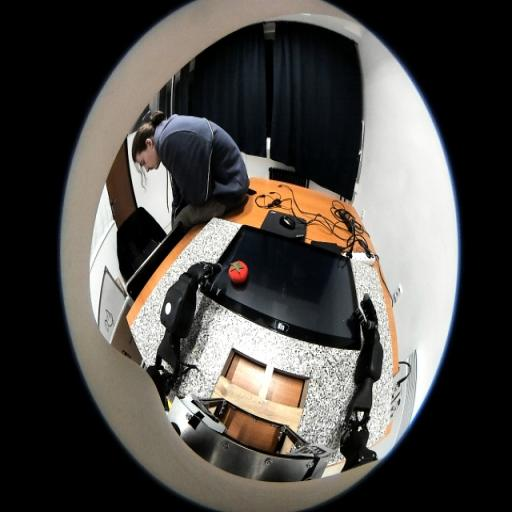LeftHand: (187, 264, 204, 278)
RightHand: (362, 317, 378, 336)
Tomato: (228, 260, 248, 283)
